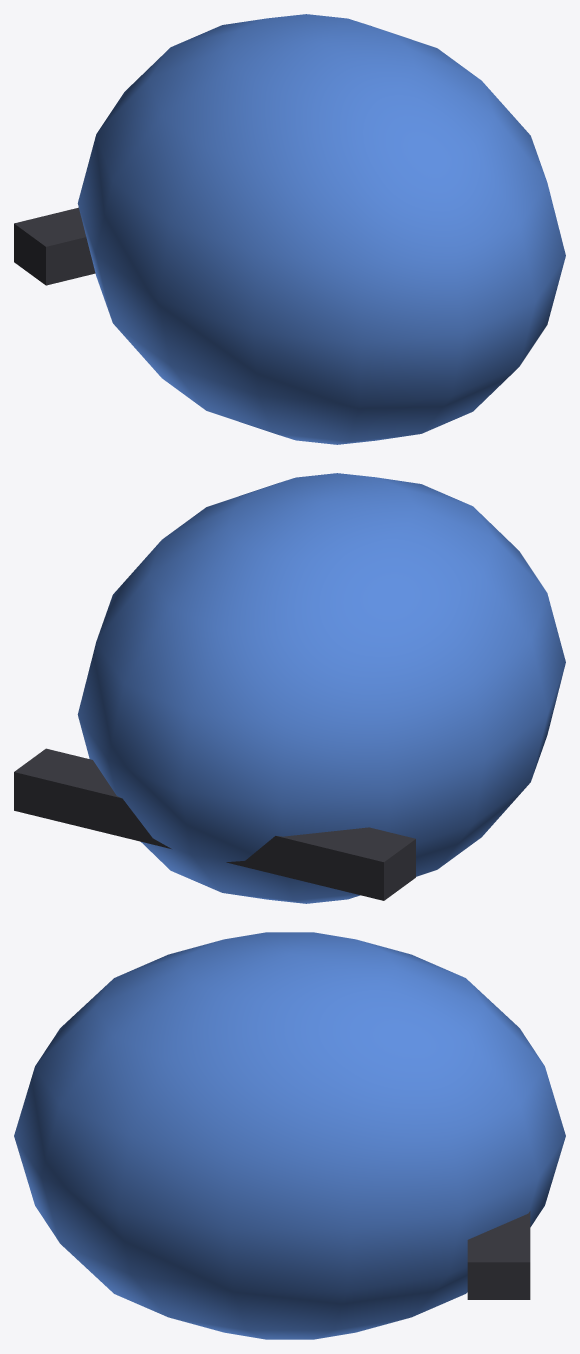
The model's file is helmet.glb.
3 views of the same model, one above another, from view 1: azimuth 30°, elevation 25°; view 2: azimuth 150°, elevation 25°; view 3: azimuth 270°, elevation 25° (orthographic). The views are drawn at different scales.
Visible parts, largest first — view 1: helmet; view 2: helmet; view 3: helmet.
Part boxes in pixels (left/top/right/bottom): helmet: left=14, top=14, right=565, bottom=444; helmet: left=14, top=473, right=565, bottom=903; helmet: left=14, top=932, right=565, bottom=1339.
Size of the model in its own units: 0.2106 by 0.192 by 0.264.
